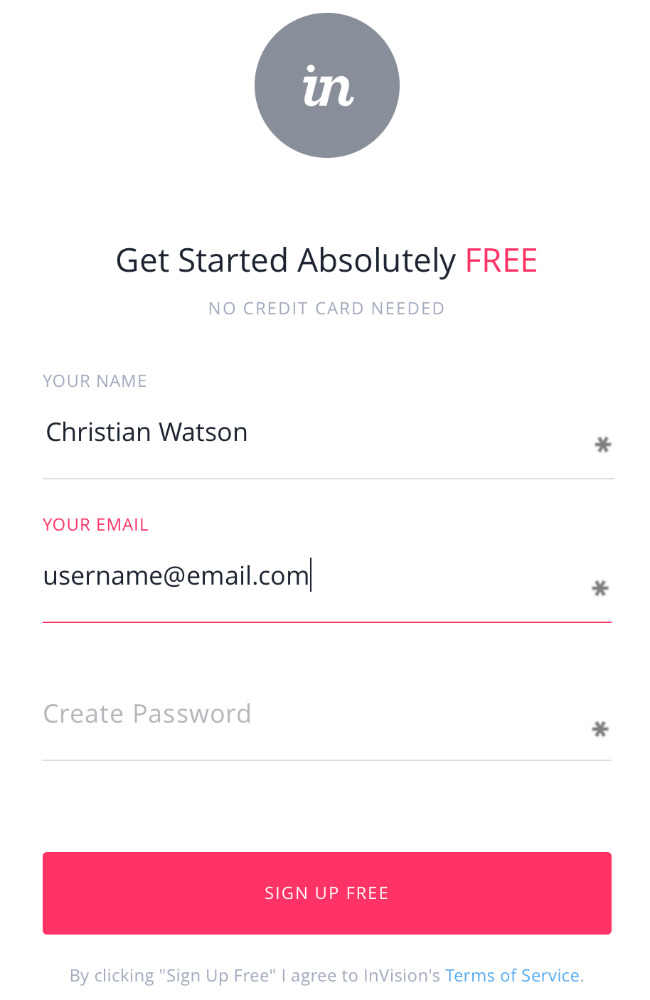_form_: (13, 338, 634, 945)
button: (42, 850, 613, 937)
field_line: (37, 684, 617, 764), (39, 409, 616, 483), (36, 557, 615, 625)
field_line_with_label: (36, 370, 620, 485), (35, 514, 619, 628)
